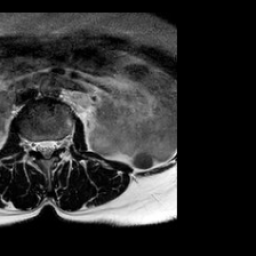CCS_normal: (42, 131, 50, 164)
LFS_normal: (58, 130, 65, 156)
LLS_normal: (50, 131, 58, 159)
RFS_normal: (27, 131, 36, 157)
RLS_normal: (35, 132, 42, 159)
